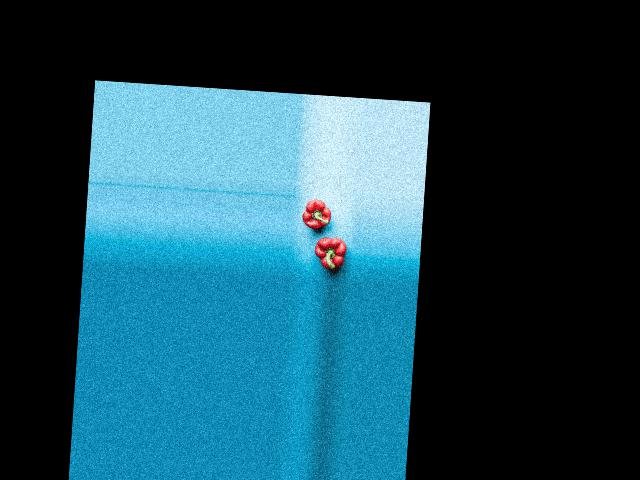bell_pepper: (309, 229, 347, 274)
